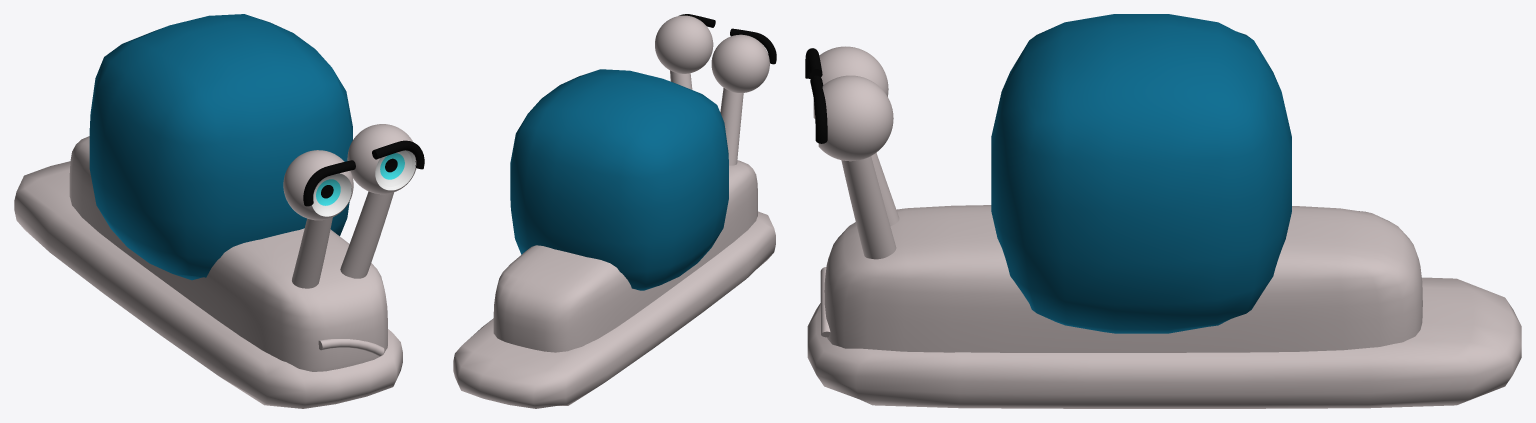
The picture shows the model from 3 angles, left to right: view 1: azimuth 30°, elevation 25°; view 2: azimuth 150°, elevation 25°; view 3: azimuth 270°, elevation 25°; orthographic projection. The views are drawn at different scales.
Parts seen in each view (by area): view 1: Capsule_2-Mat.1, Capsule_2-Mat, Capsule_2-Mat.6, Capsule_2-Mat.4, Цилиндр, Цилиндр.1, Цилиндр.2; view 2: Capsule_2-Mat, Capsule_2-Mat.1, Цилиндр; view 3: Capsule_2-Mat, Capsule_2-Mat.1, Цилиндр.1.
Part boxes in pixels (box(x1,y1,x2,y2)): Capsule_2-Mat.1: box(89, 14, 352, 280); Capsule_2-Mat: box(14, 124, 416, 408); Capsule_2-Mat.6: box(312, 150, 415, 216); Capsule_2-Mat.4: box(316, 153, 404, 205); Цилиндр: box(303, 160, 355, 206); Цилиндр.1: box(372, 140, 424, 169); Цилиндр.2: box(318, 339, 384, 356); Capsule_2-Mat: box(453, 15, 775, 408); Capsule_2-Mat.1: box(510, 69, 728, 290); Цилиндр: box(730, 28, 776, 64); Capsule_2-Mat: box(807, 46, 1521, 408); Capsule_2-Mat.1: box(991, 14, 1291, 333); Цилиндр.1: box(810, 75, 827, 143).
Size of the model in its own units: 17.55 by 22.08 by 41.77.
